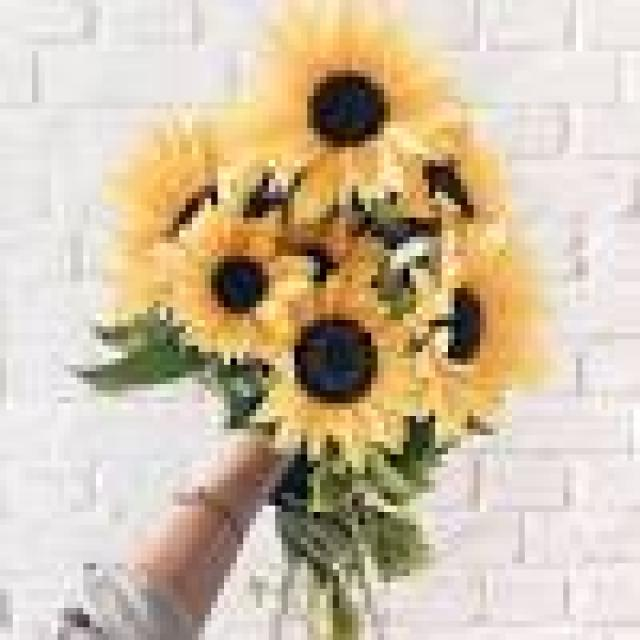sunflower: (237, 3, 461, 215), (144, 208, 323, 368), (256, 276, 410, 454), (422, 243, 550, 448)
